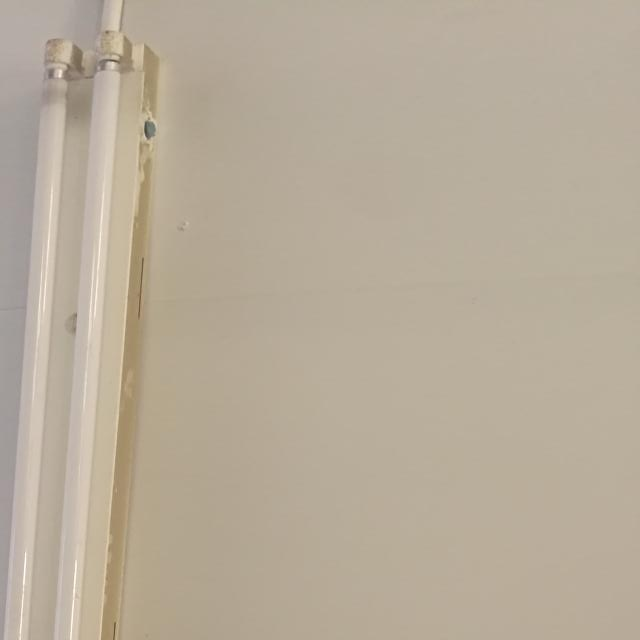fluorescent tube: (0, 6, 197, 640)
